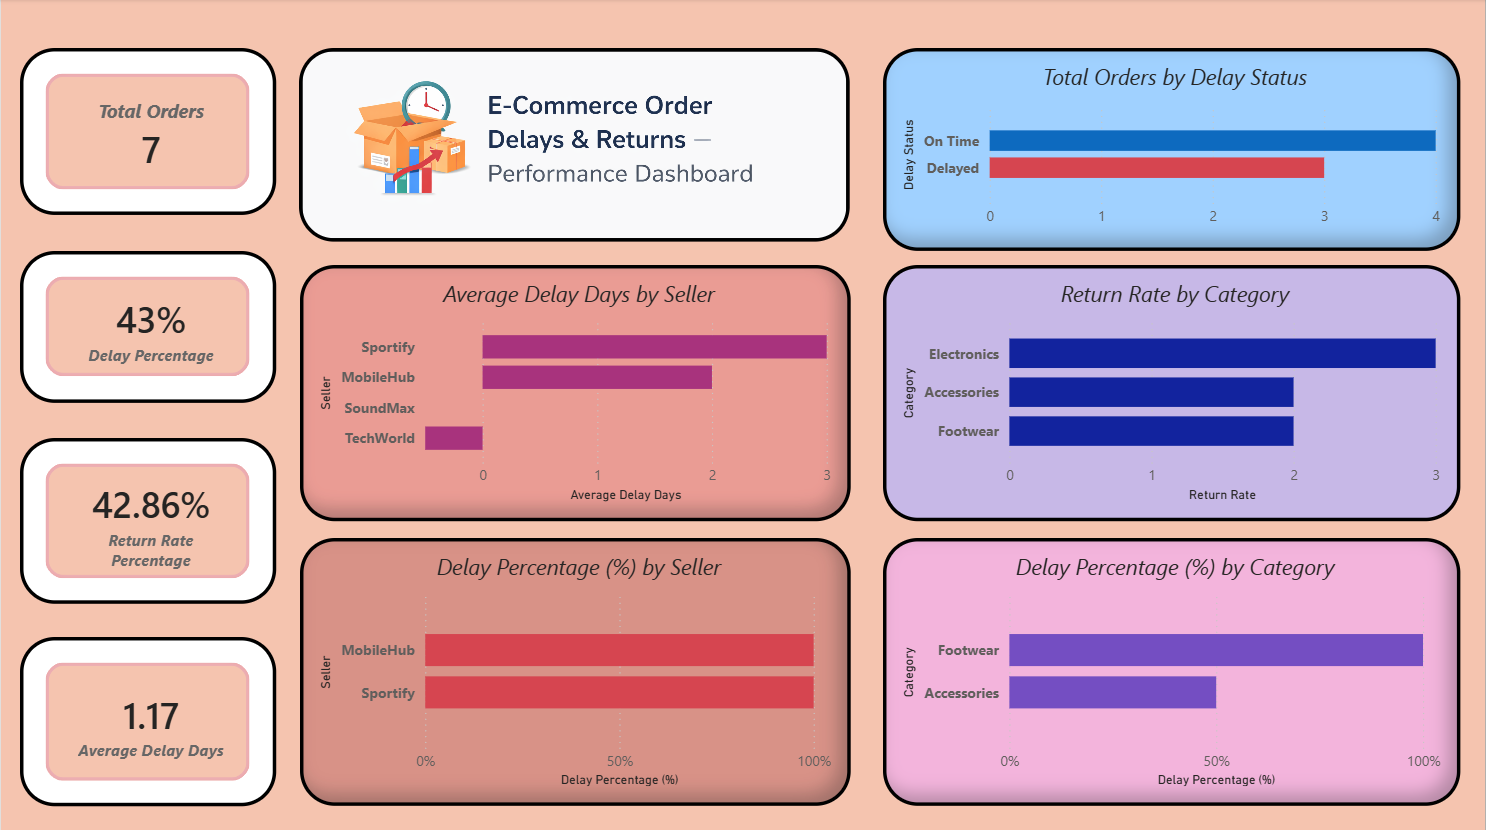

Layout of this report page (visuals, bound fields, positions):
{"tool":"powerbi","page":{"name":"Page 1","canvas":[1280,720],"ordinal":0},"visuals":[{"type":"clusteredBarChart","fields":{"Y":["Final Dataset For Analysis.Delay %"],"Category":["Final Dataset For Analysis.Category"]},"box":[760.4,464.6,497.8,231.3],"z":0},{"type":"clusteredBarChart","fields":{"Y":["Final Dataset For Analysis.Delay %"],"Category":["Final Dataset For Analysis.Seller_Name"]},"box":[257.9,464.6,475,231.3],"z":1000},{"type":"image","box":[257,42.3,475.3,167.3],"z":2000},{"type":"clusteredBarChart","fields":{"Y":["Final Dataset For Analysis.Avg Delay Days"],"Category":["Final Dataset For Analysis.Seller_Name"]},"box":[257.9,229.4,475.3,220.8],"z":3000},{"type":"cardVisual","fields":{"Data":["Final Dataset For Analysis.Total Orders"]},"box":[16.1,42,220.9,144.1],"z":4000},{"type":"cardVisual","fields":{"Data":["Final Dataset For Analysis.Avg Delay Days"]},"box":[16.1,549.9,220.9,146],"z":5000},{"type":"cardVisual","fields":{"Data":["Final Dataset For Analysis.Delay %"]},"box":[16.1,217.1,220.9,130.8],"z":6000},{"type":"cardVisual","fields":{"Data":["Final Dataset For Analysis.Return Rate %"]},"box":[16.1,378.3,220.9,143.2],"z":7000},{"type":"clusteredBarChart","fields":{"Y":["Final Dataset For Analysis.Total Orders"],"Category":["Final Dataset For Analysis.Delay_Status"]},"box":[760.8,42.3,497.7,175.1],"z":8000},{"type":"clusteredBarChart","fields":{"Category":["Final Dataset For Analysis.Category"],"Y":["CountNonNull(Final Dataset For Analysis.Is_Returned)"]},"box":[760.8,229.4,497.7,220.8],"z":9000}]}

Visuals, with their boxes in screenshot pixels (x1, y1, x2, y2), scaled from the page's 1280x720 canvas onto the 1486x830 screenshot:
clusteredBarChart - Final Dataset For Analysis.Delay % x Final Dataset For Analysis.Category: <bbox>883, 536, 1461, 802</bbox>
clusteredBarChart - Final Dataset For Analysis.Delay % x Final Dataset For Analysis.Seller_Name: <bbox>299, 536, 851, 802</bbox>
image: <bbox>298, 49, 850, 242</bbox>
clusteredBarChart - Final Dataset For Analysis.Avg Delay Days x Final Dataset For Analysis.Seller_Name: <bbox>299, 264, 851, 519</bbox>
cardVisual - Final Dataset For Analysis.Total Orders: <bbox>19, 48, 275, 215</bbox>
cardVisual - Final Dataset For Analysis.Avg Delay Days: <bbox>19, 634, 275, 802</bbox>
cardVisual - Final Dataset For Analysis.Delay %: <bbox>19, 250, 275, 401</bbox>
cardVisual - Final Dataset For Analysis.Return Rate %: <bbox>19, 436, 275, 601</bbox>
clusteredBarChart - Final Dataset For Analysis.Total Orders x Final Dataset For Analysis.Delay_Status: <bbox>883, 49, 1461, 251</bbox>
clusteredBarChart - Final Dataset For Analysis.Category x CountNonNull(Final Dataset For Analysis.Is_Returned): <bbox>883, 264, 1461, 519</bbox>
